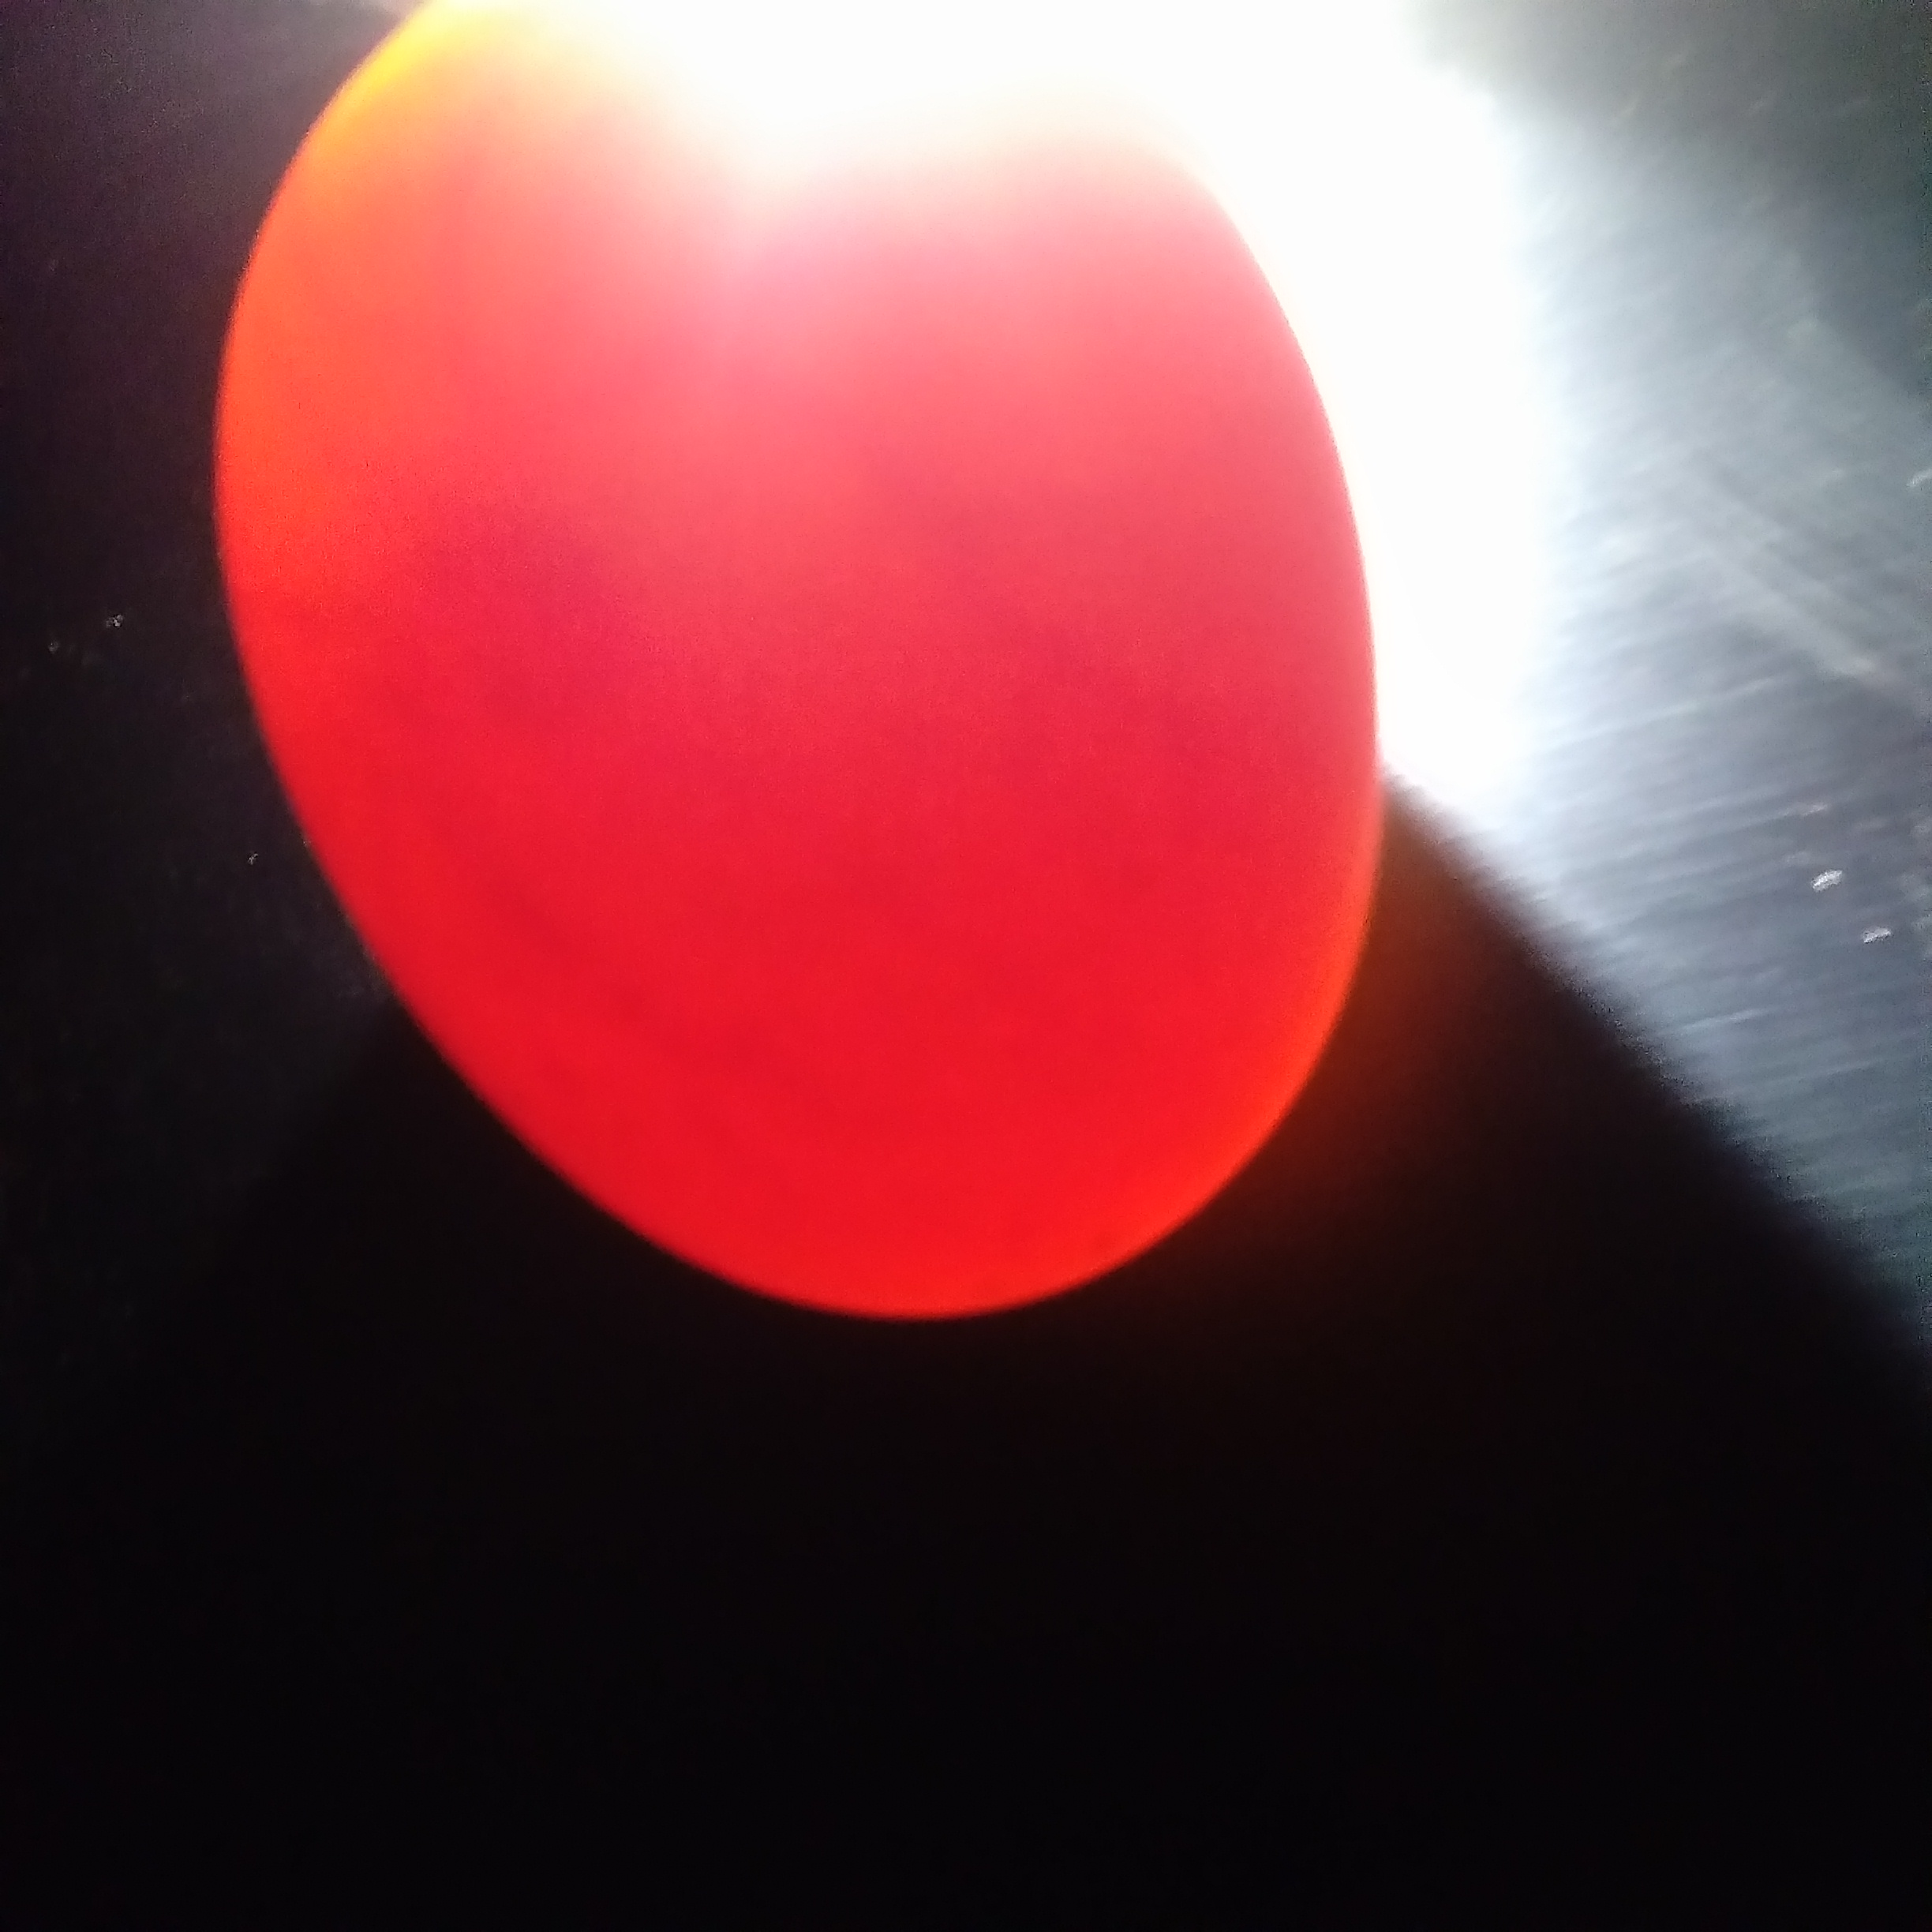bloodcell: (690, 278, 1253, 1145)
embryo: (437, 504, 639, 771)
